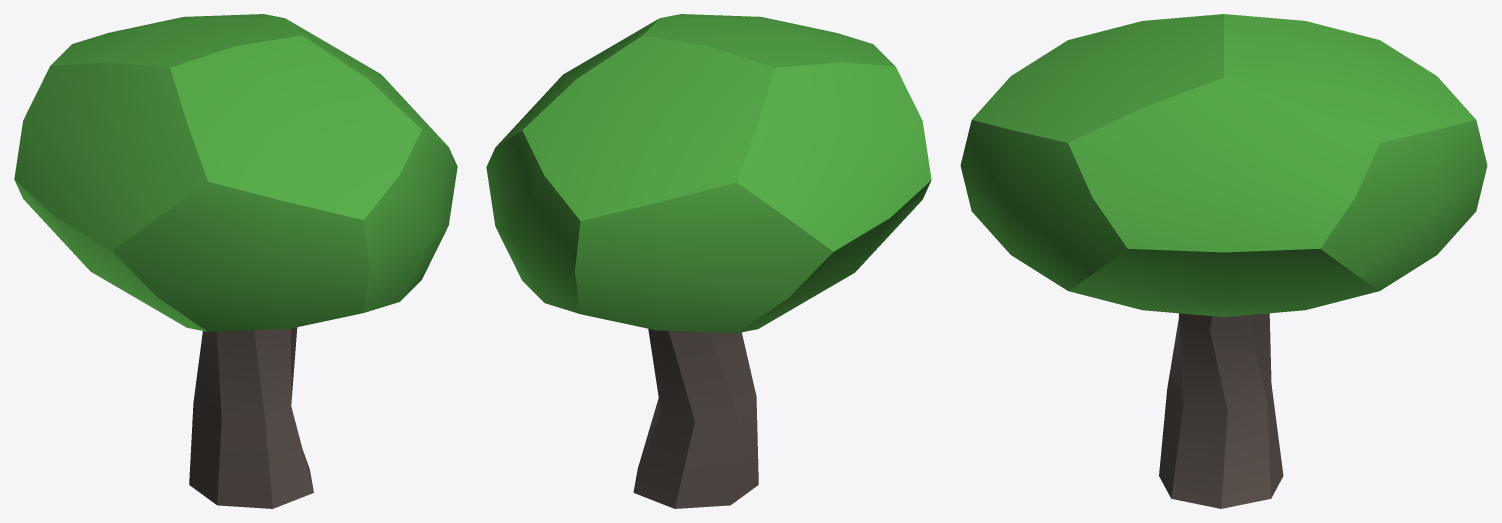
The model's file is tree1.fbx.
3 views of the same model, side by side, from view 1: azimuth 30°, elevation 25°; view 2: azimuth 150°, elevation 25°; view 3: azimuth 270°, elevation 25° (orthographic).
Parts seen in each view (by area): view 1: pCylinder2; view 2: pCylinder2; view 3: pCylinder2.
Boxes of the visible parts, left/top/right/bottom form: pCylinder2: left=14, top=14, right=457, bottom=508; pCylinder2: left=486, top=14, right=931, bottom=508; pCylinder2: left=960, top=14, right=1487, bottom=508.
Size of the model in its own units: 82.35 by 95.82 by 106.
